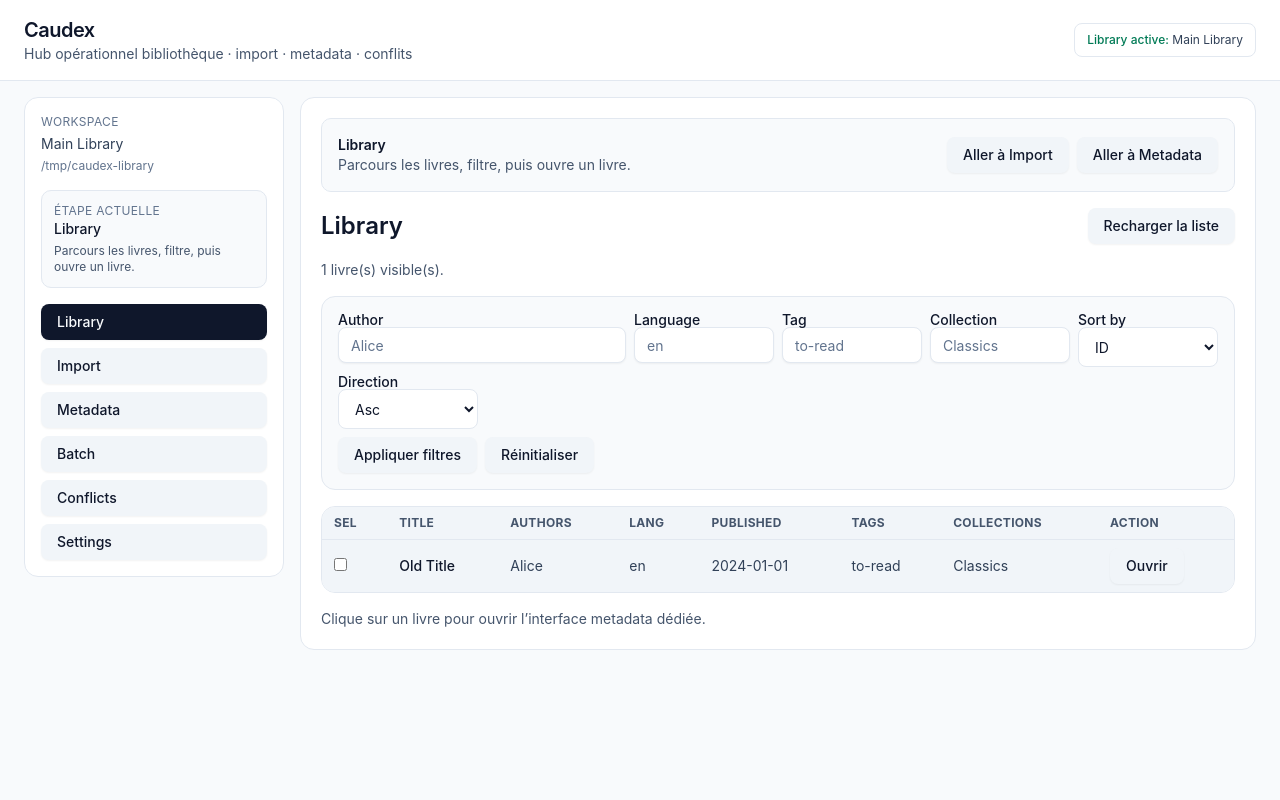
Test: workspace flow › detects and resolves metadata conflicts
Click the button "Metadata": (154, 410) x1=41 y1=392 x2=267 y2=428
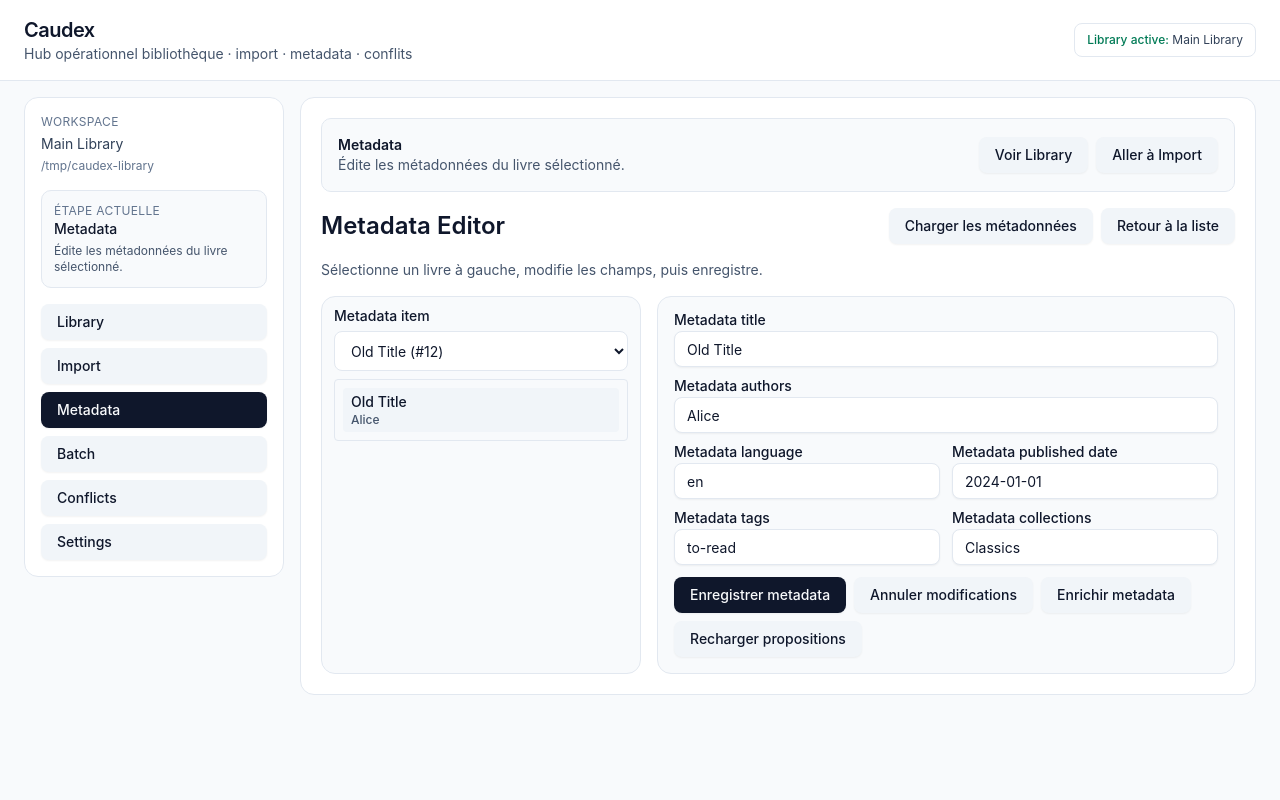
Replace the text in the field labelled "Metadata title" with "Draft Title": (946, 349) x1=674 y1=331 x2=1218 y2=367
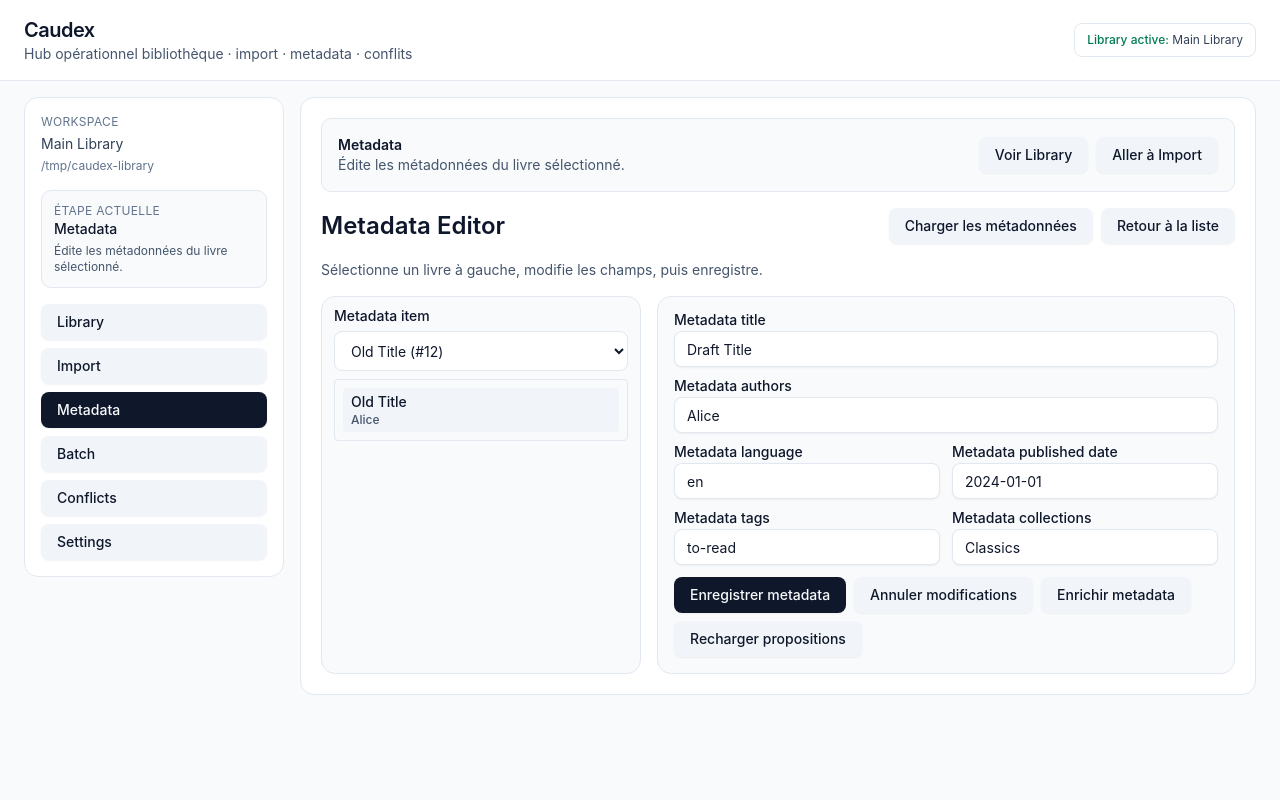
Click the button "Conflicts": (154, 498) x1=41 y1=480 x2=267 y2=516
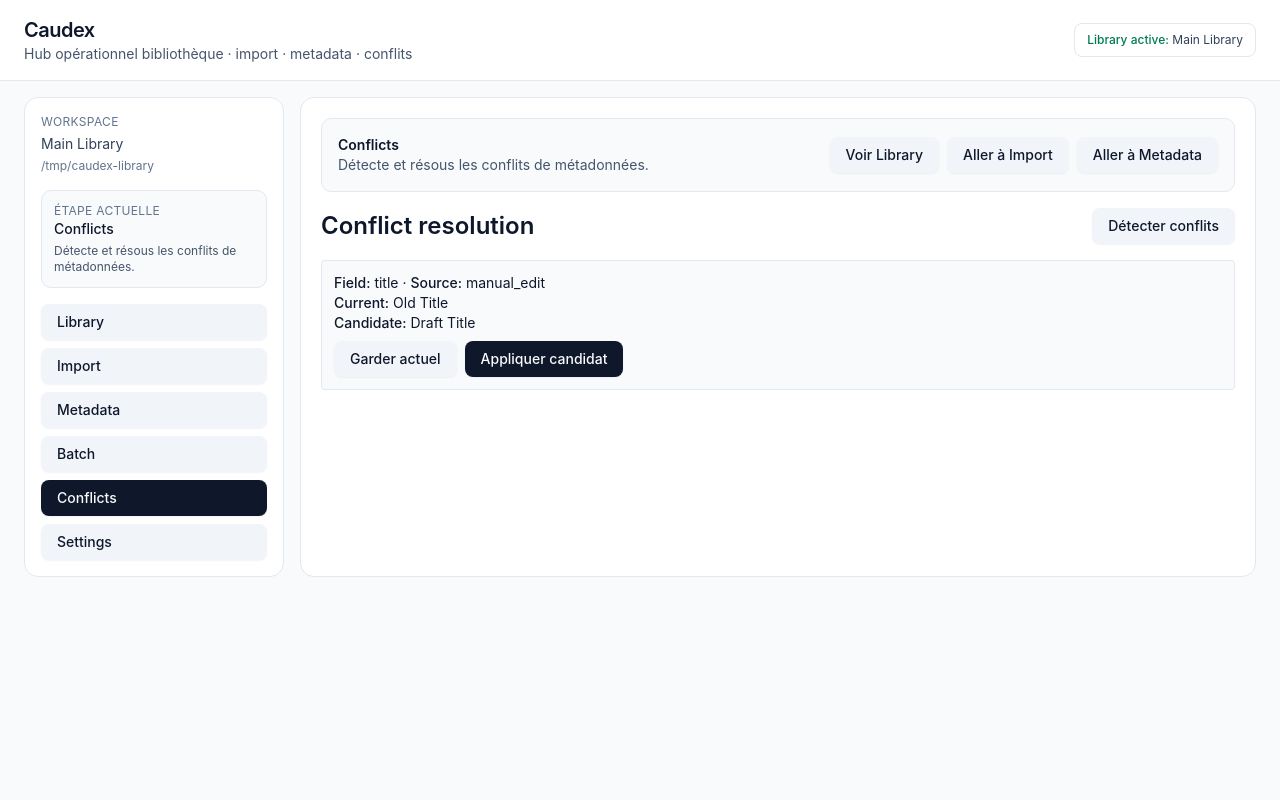
Click the button "Détecter conflits": (1164, 226) x1=1092 y1=208 x2=1235 y2=244
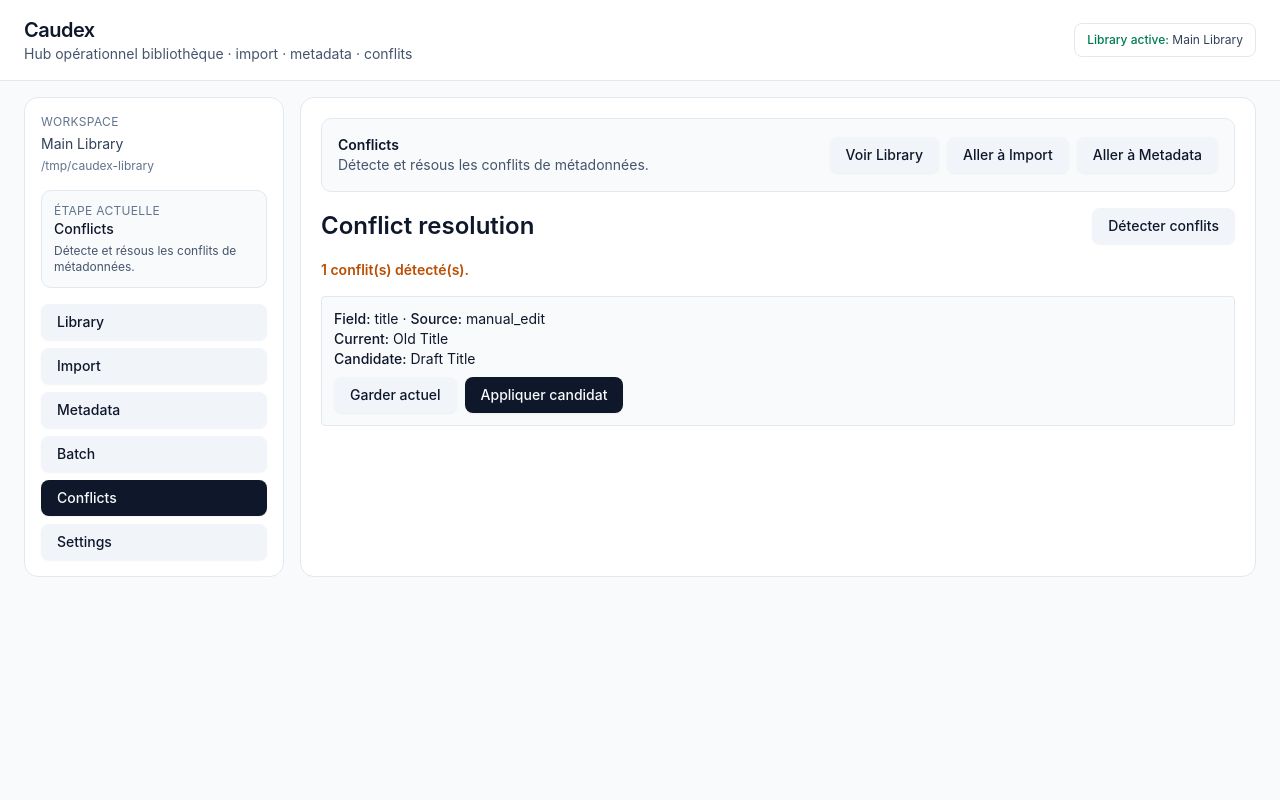
Click the button "Appliquer candidat": (544, 395) x1=465 y1=377 x2=624 y2=413
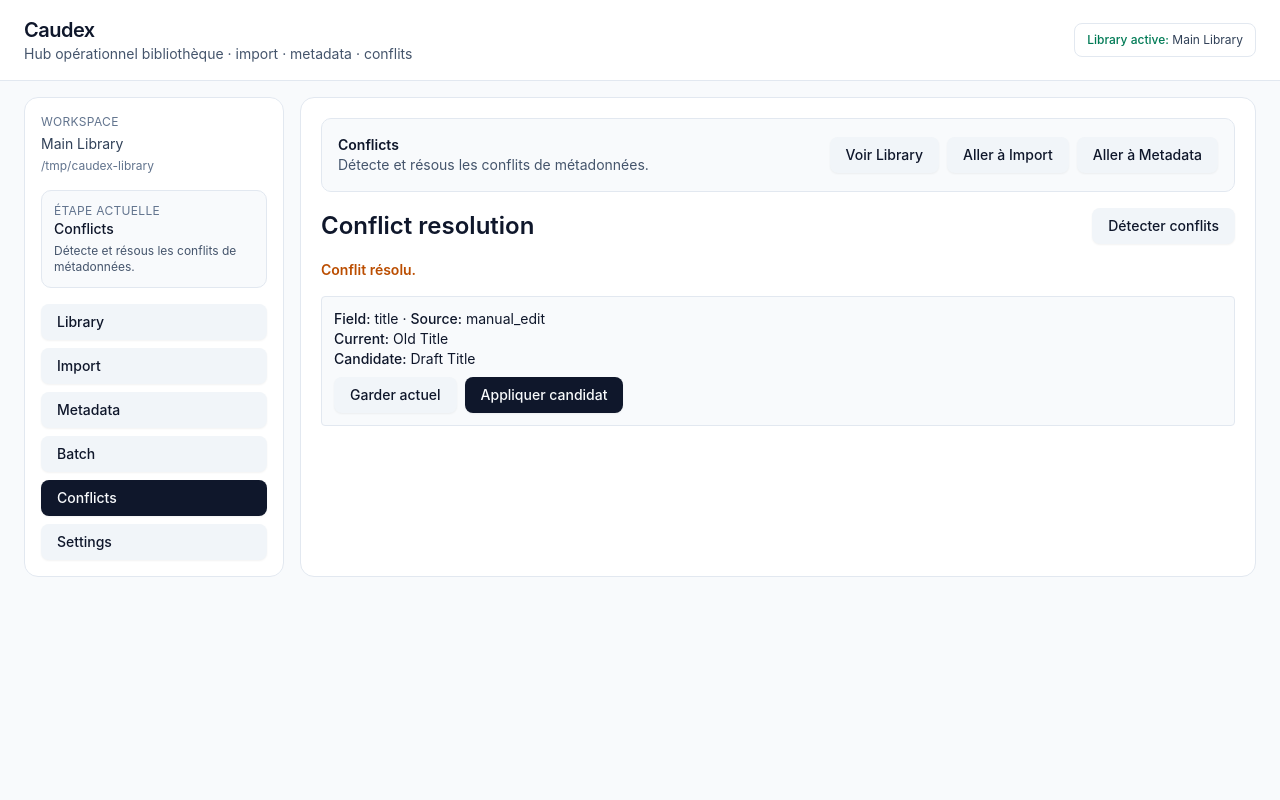
expect the text "Conflit résolu." is shown: met, box x1=321 y1=261 x2=416 y2=278
